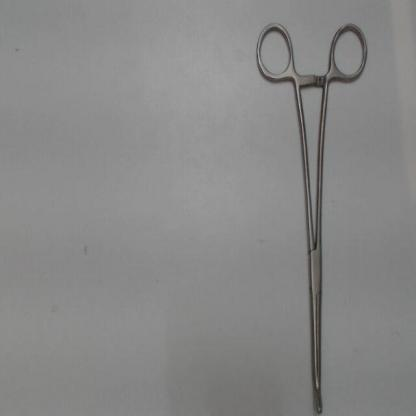Lahey Forceps: (254, 14, 372, 413)
